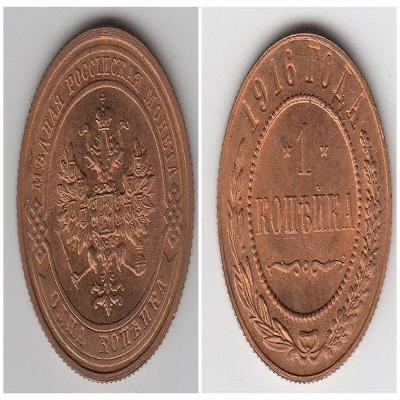numismatics: (17, 27, 194, 381), (218, 33, 391, 381)
